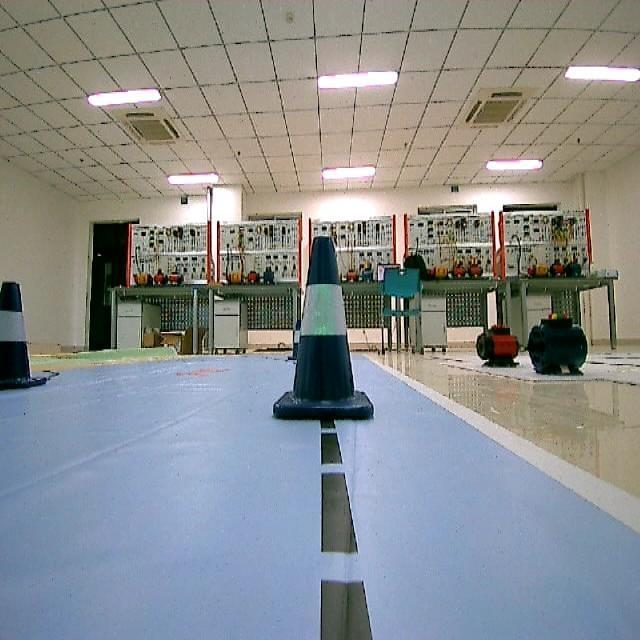obstacle: (263, 236, 377, 425), (0, 279, 51, 402)
